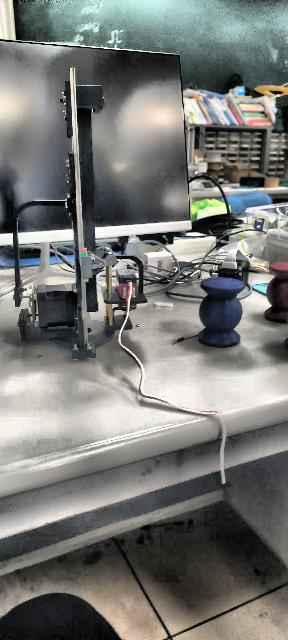blue: (198, 276, 244, 348)
red: (261, 259, 288, 324)
